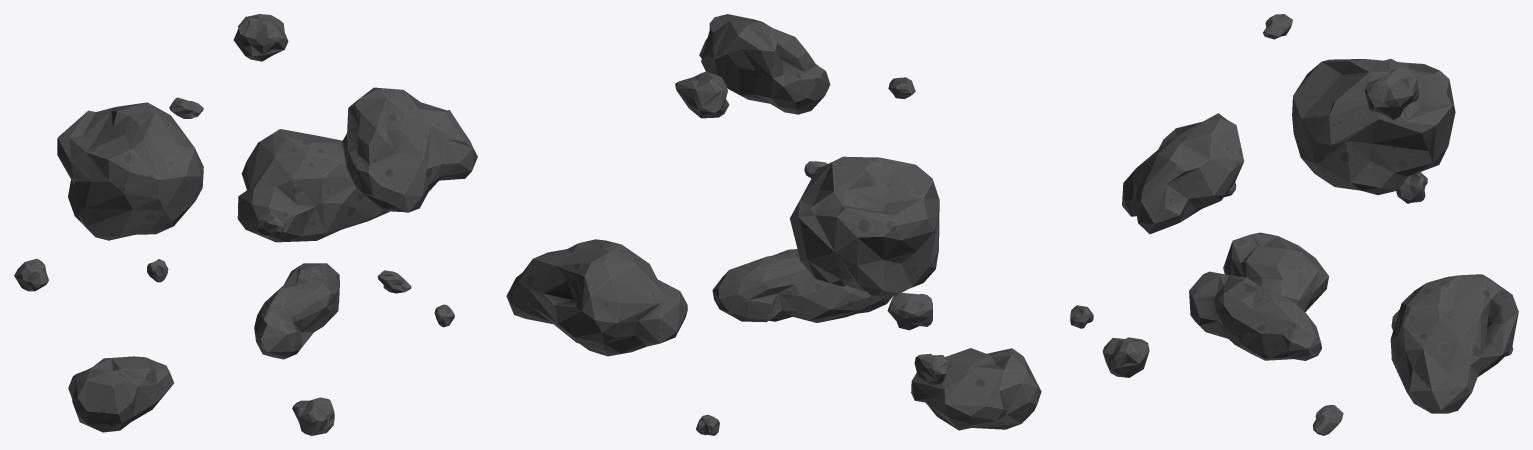
The model's file is Asteroids.OBJ.
3 views of the same model, side by side, from view 1: azimuth 30°, elevation 25°; view 2: azimuth 150°, elevation 25°; view 3: azimuth 270°, elevation 25° (orthographic). The views are drawn at different scales.
Parts seen in each view (by area): view 1: Asteroids_Mesh; view 2: Asteroids_Mesh; view 3: Asteroids_Mesh.
Part boxes in pixels (x1,y1,x2,y2): Asteroids_Mesh: (14, 14, 477, 435); Asteroids_Mesh: (506, 14, 1041, 435); Asteroids_Mesh: (1070, 14, 1518, 435).
Size of the model in its own units: 20.66 by 15.48 by 18.01.
Materials: 1 (1 with a texture image).
